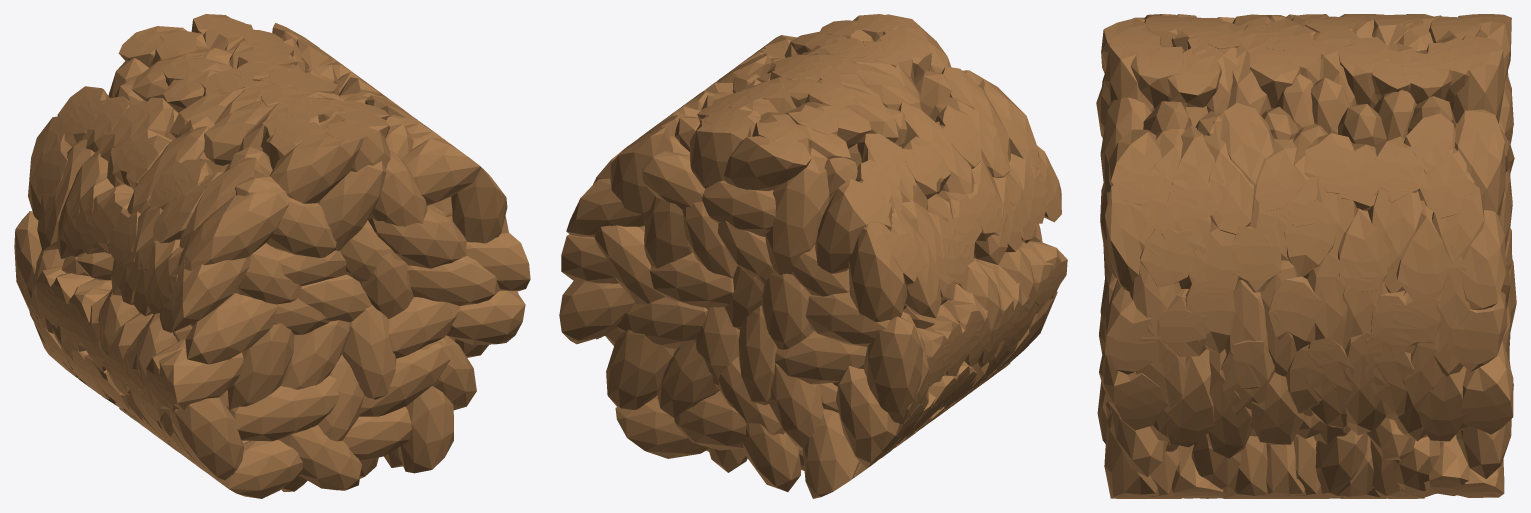
File: jar_pile_50.glb
3 views of the same model, side by side, from view 1: azimuth 30°, elevation 25°; view 2: azimuth 150°, elevation 25°; view 3: azimuth 270°, elevation 25° (orthographic). The views are drawn at different scales.
Parts seen in each view (by area): view 1: world; view 2: world; view 3: world.
Boxes of the visible parts, <box> form: world: <box>14,14,530,498</box>; world: <box>559,14,1067,498</box>; world: <box>1096,14,1516,498</box>.
Size of the model in its own units: 0.0692 by 0.0685 by 0.06.
